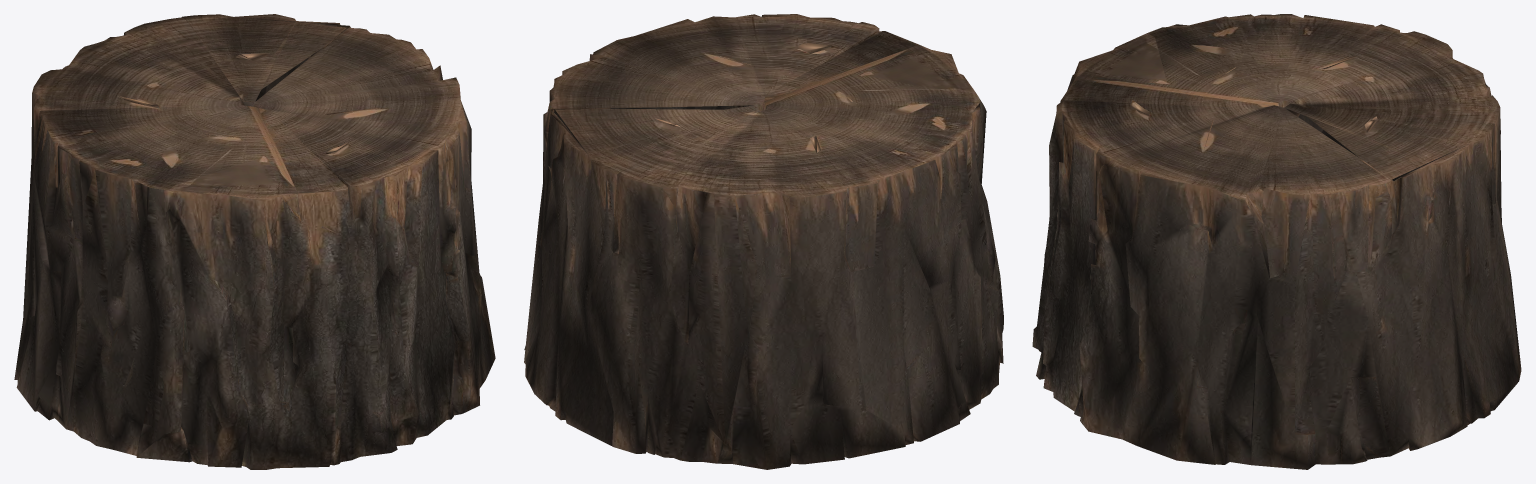
Rendered from chopping_stump_nj.glb.
3 renders of one model, left to right at view 1: azimuth 30°, elevation 25°; view 2: azimuth 150°, elevation 25°; view 3: azimuth 270°, elevation 25°, orthographic.
Size of the model in its own units: 0.9385 by 0.5756 by 0.9512.
1 material, 1 textured.
